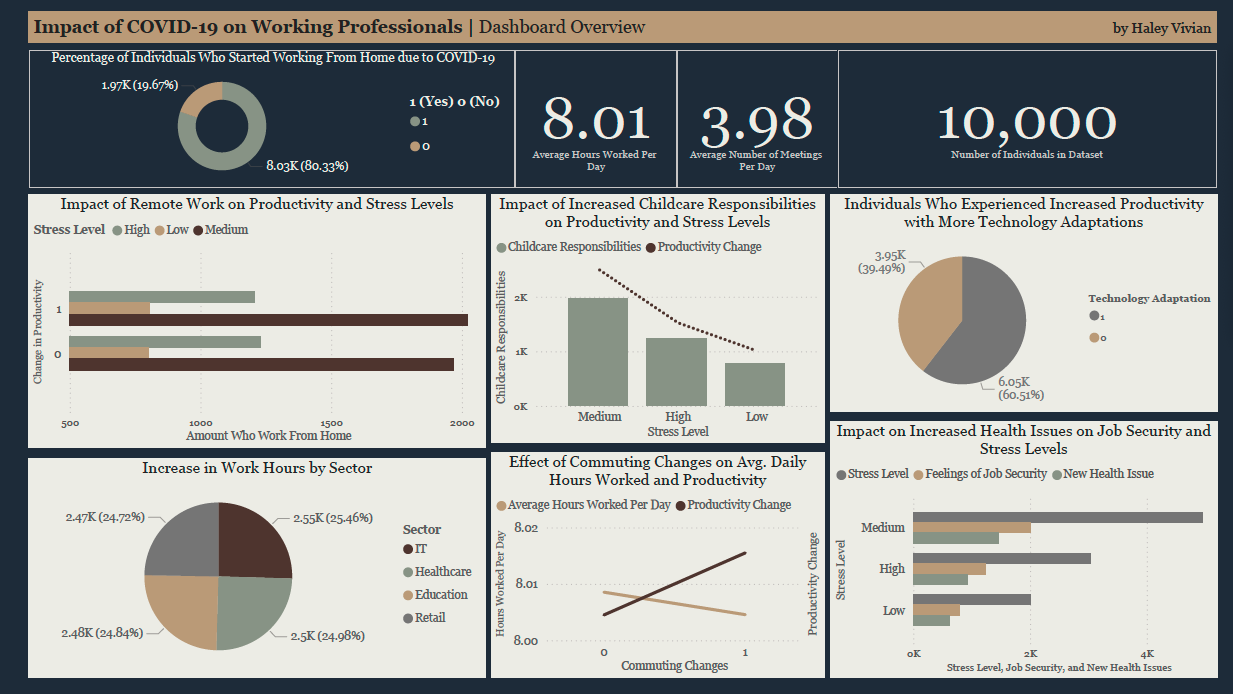

The page's visual inventory and layout, read from the dashboard file:
{"tool":"powerbi","page":{"name":"Page 1","canvas":[1280,720],"ordinal":0},"visuals":[{"type":"textbox","box":[29.9,11.4,1233.4,32],"z":0},{"type":"card","fields":{"Values":["Avg(Sheet1.Meetings_Per_Day)"]},"box":[702.8,51,166.9,143.2],"z":2000},{"type":"card","fields":{"Values":["CountNonNull(Sheet1.Work_From_Home)"]},"box":[869.7,51,393.6,143.2],"z":3000},{"type":"donutChart","title":"Percentage of Individuals Who Started Working From Home due to COVID-19","fields":{"Y":["CountNonNull(Sheet1.Work_From_Home)"],"Category":["Sheet1.Work_From_Home"]},"box":[29.9,51,505.1,143.2],"z":4000},{"type":"pieChart","title":"Increase in Work Hours by Sector","fields":{"Category":["Sheet1.Sector"],"Y":["CountNonNull(Sheet1.Increased_Work_Hours)"],"Series":["Sheet1.Sector"]},"box":[29.9,475.3,474.4,227.5],"z":5000},{"type":"clusteredBarChart","title":"Impact of Remote Work on Productivity and Stress Levels","fields":{"Y":["Sum(Sheet1.Work_From_Home)"],"Category":["Sheet1.Productivity_Change"],"Series":["Sheet1.Stress_Level"]},"box":[29.6,201.1,474,263],"z":6000},{"type":"lineClusteredColumnComboChart","title":"Impact of Increased Childcare Responsibilities on Productivity and Stress Levels","fields":{"Category":["Sheet1.Stress_Level"],"Y":["Sum(Sheet1.Childcare_Responsibilities)"],"Y2":["Sum(Sheet1.Productivity_Change)"]},"box":[510.4,201.2,346.1,258.3],"z":7000},{"type":"clusteredBarChart","title":"Impact on Increased Health Issues on Job Security and Stress Levels","fields":{"Category":["Sheet1.Stress_Level"],"Y":["CountNonNull(Sheet1.Stress_Level)","Sum(Sheet1.Job_Security)","Sum(Sheet1.Health_Issue)"]},"box":[862.7,436.6,400.6,266.2],"z":8000},{"type":"pieChart","title":"Individuals Who Experienced Increased Productivity with More Technology Adaptations","fields":{"Y":["CountNonNull(Sheet1.Productivity_Change)"],"Category":["Sheet1.Technology_Adaptation"]},"box":[862.7,201.2,400.6,225.8],"z":9000},{"type":"lineChart","title":"Effect of Commuting Changes on Avg. Daily Hours Worked and Productivity","fields":{"Category":["Sheet1.Commuting_Changes"],"Y":["Avg(Sheet1.Hours_Worked_Per_Day)"],"Y2":["CountNonNull(Sheet1.Productivity_Change)"]},"box":[510.4,469.1,346.1,233.7],"z":10000},{"type":"card","fields":{"Values":["Avg(Sheet1.Hours_Worked_Per_Day)"]},"box":[535,51,167.8,143.2],"z":11001}]}

Visuals, with their boxes in screenshot pixels (x1, y1, x2, y2), scaled from the page's 1280x720 canvas onto the 1233x694 screenshot:
textbox: 29/11/1217/42
card - Avg(Sheet1.Meetings_Per_Day): 677/49/838/187
card - CountNonNull(Sheet1.Work_From_Home): 838/49/1217/187
"Percentage of Individuals Who Started Working From Home due to COVID-19" donutChart: 29/49/515/187
"Increase in Work Hours by Sector" pieChart: 29/458/486/677
"Impact of Remote Work on Productivity and Stress Levels" clusteredBarChart: 29/194/485/447
"Impact of Increased Childcare Responsibilities on Productivity and Stress Levels" lineClusteredColumnComboChart: 492/194/825/443
"Impact on Increased Health Issues on Job Security and Stress Levels" clusteredBarChart: 831/421/1217/677
"Individuals Who Experienced Increased Productivity with More Technology Adaptations" pieChart: 831/194/1217/412
"Effect of Commuting Changes on Avg. Daily Hours Worked and Productivity" lineChart: 492/452/825/677
card - Avg(Sheet1.Hours_Worked_Per_Day): 515/49/677/187
